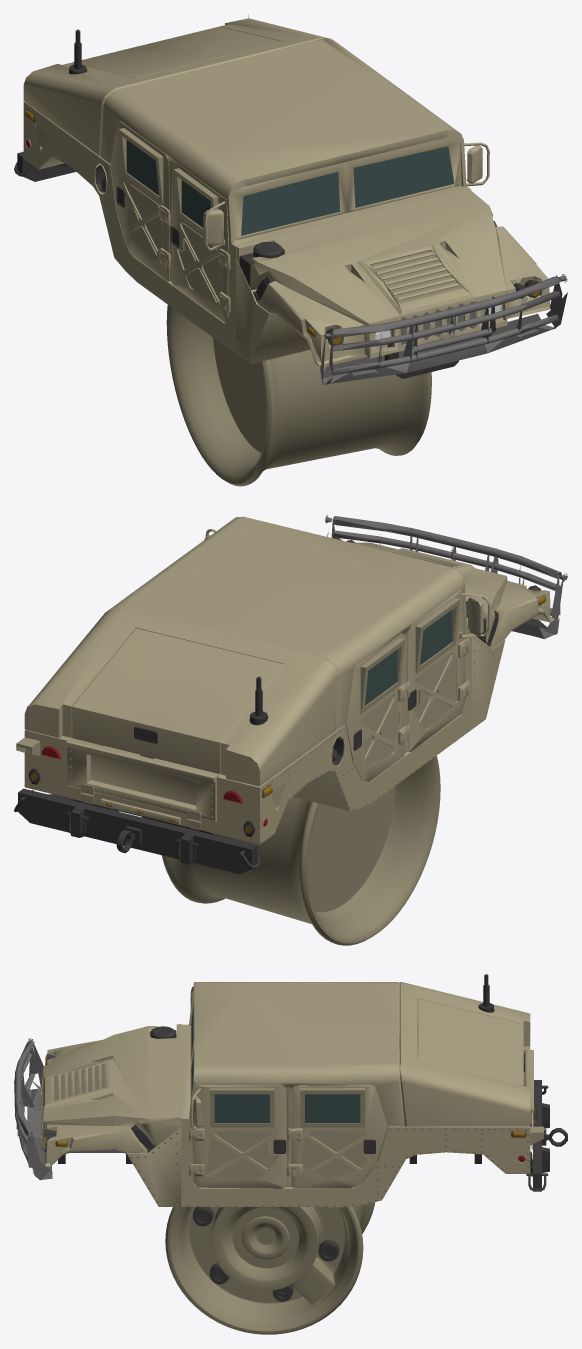
The model's file is hummer.glb.
3 renders of one model, top to bottom at view 1: azimuth 30°, elevation 25°; view 2: azimuth 150°, elevation 25°; view 3: azimuth 270°, elevation 25°, orthographic. The views are drawn at different scales.
Visible parts, largest first — view 1: paint:0, rim:3, trim:1, screen:11, paint:2, trim:5, paint:3, glass:11, trim:7; view 2: paint:0, rim:3, trim:5, paint:2, trim:1, glass:11, trim:7, paint:3; view 3: paint:0, rim:3, paint:2, glass:11, trim:1, trim:5, paint:3, rim:5, trim:7.
Boxes of the visible parts, x1=… form: paint:0: x1=23, y1=18, x2=550, y2=365; rim:3: x1=166, y1=305, x2=431, y2=486; trim:1: x1=248, y1=15, x2=567, y2=384; screen:11: x1=241, y1=146, x2=454, y2=235; paint:2: x1=34, y1=123, x2=220, y2=302; trim:5: x1=14, y1=151, x2=541, y2=345; paint:3: x1=24, y1=105, x2=484, y2=360; glass:11: x1=126, y1=140, x2=211, y2=227; trim:7: x1=26, y1=29, x2=482, y2=378; paint:0: x1=24, y1=516, x2=554, y2=844; rim:3: x1=161, y1=755, x2=440, y2=945; trim:5: x1=14, y1=537, x2=541, y2=874; paint:2: x1=16, y1=598, x2=460, y2=830; trim:1: x1=27, y1=515, x2=567, y2=729; glass:11: x1=365, y1=610, x2=452, y2=705; trim:7: x1=48, y1=595, x2=544, y2=840; paint:3: x1=26, y1=637, x2=502, y2=842; paint:0: x1=41, y1=982, x2=533, y2=1207; rim:3: x1=165, y1=1202, x2=375, y2=1334; paint:2: x1=206, y1=1088, x2=543, y2=1178; glass:11: x1=214, y1=1094, x2=360, y2=1122; trim:1: x1=14, y1=1038, x2=536, y2=1180; trim:5: x1=44, y1=1026, x2=567, y2=1191; paint:3: x1=54, y1=1064, x2=531, y2=1206; rim:5: x1=192, y1=1207, x2=339, y2=1301; trim:7: x1=44, y1=974, x2=533, y2=1176.
Size of the model in its own units: 2.56 by 3.07 by 5.24.
